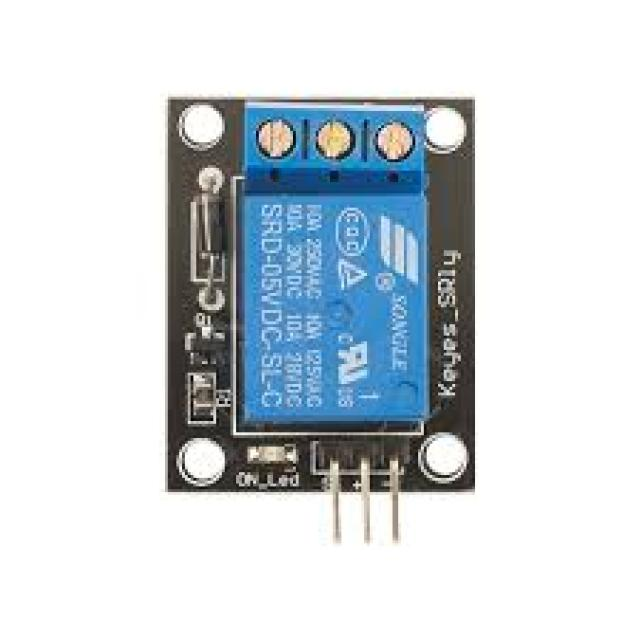Relay: (168, 102, 472, 489)
